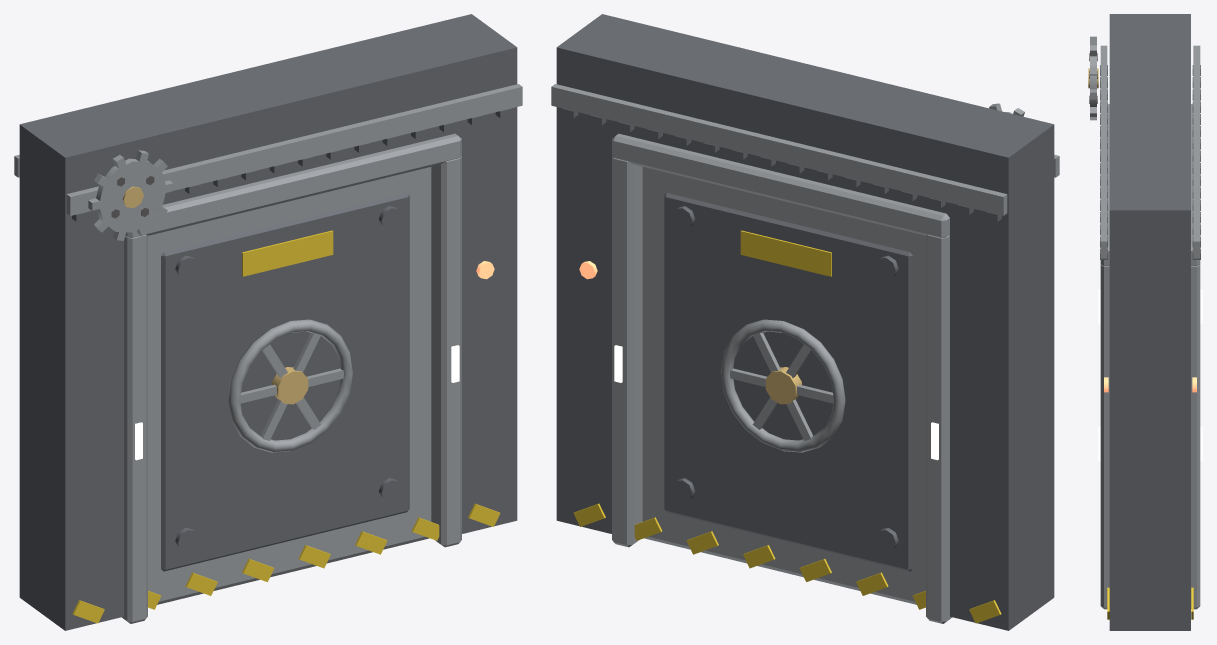
The model's file is door_hm_vault.glb.
3 renders of one model, left to right at view 1: azimuth 30°, elevation 25°; view 2: azimuth 150°, elevation 25°; view 3: azimuth 270°, elevation 25°, orthographic. The views are drawn at different scales.
Visible parts, largest first — view 1: frame, slab, wheel; view 2: frame, slab; view 3: frame, wheel.
Boxes of the visible parts, bbox=[...] form: frame: bbox=[14, 14, 522, 630]; slab: bbox=[148, 167, 431, 604]; wheel: bbox=[88, 150, 173, 240]; frame: bbox=[551, 14, 1059, 630]; slab: bbox=[642, 167, 925, 604]; frame: bbox=[1098, 14, 1202, 630]; wheel: bbox=[1088, 36, 1098, 120].
Bounding box in the file's own units: 4 × 4.05 × 0.985.
